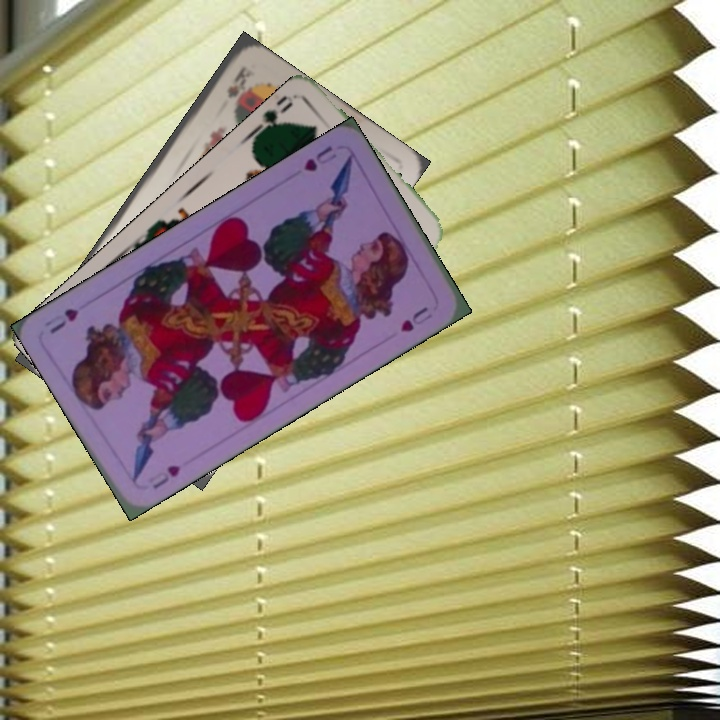GO: (248, 98, 296, 139)
HU: (299, 141, 340, 175), (144, 461, 183, 492)
SK: (222, 62, 254, 101)
